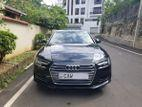car: (34, 29, 112, 92)
